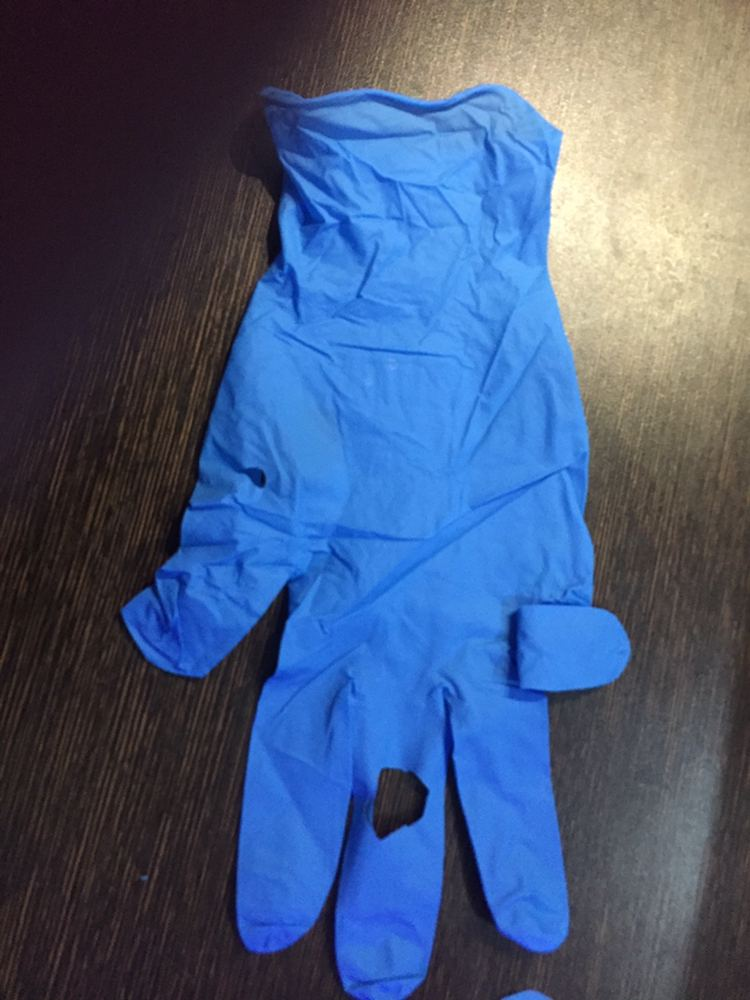defected: (110, 131, 682, 990)
